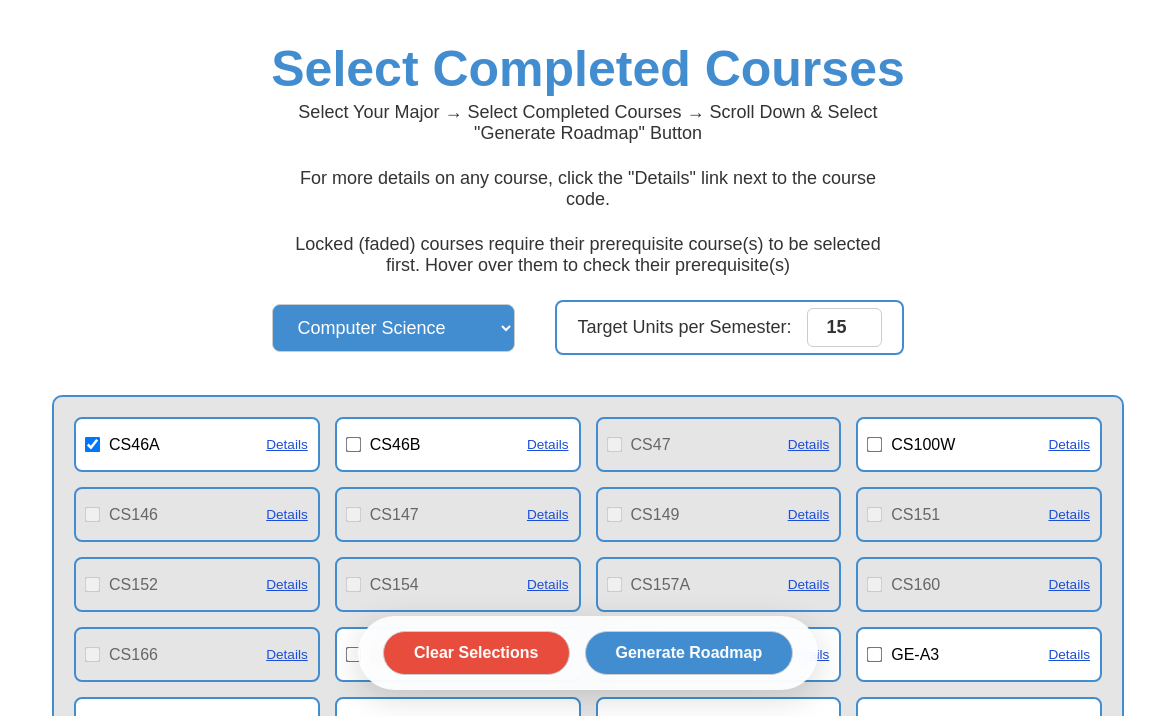
Test: Major page › clears selections only after confirmation and resets planner state when the major is cleared
Click the button "Clear Selections": x=476, y=653 [383, 631, 569, 675]
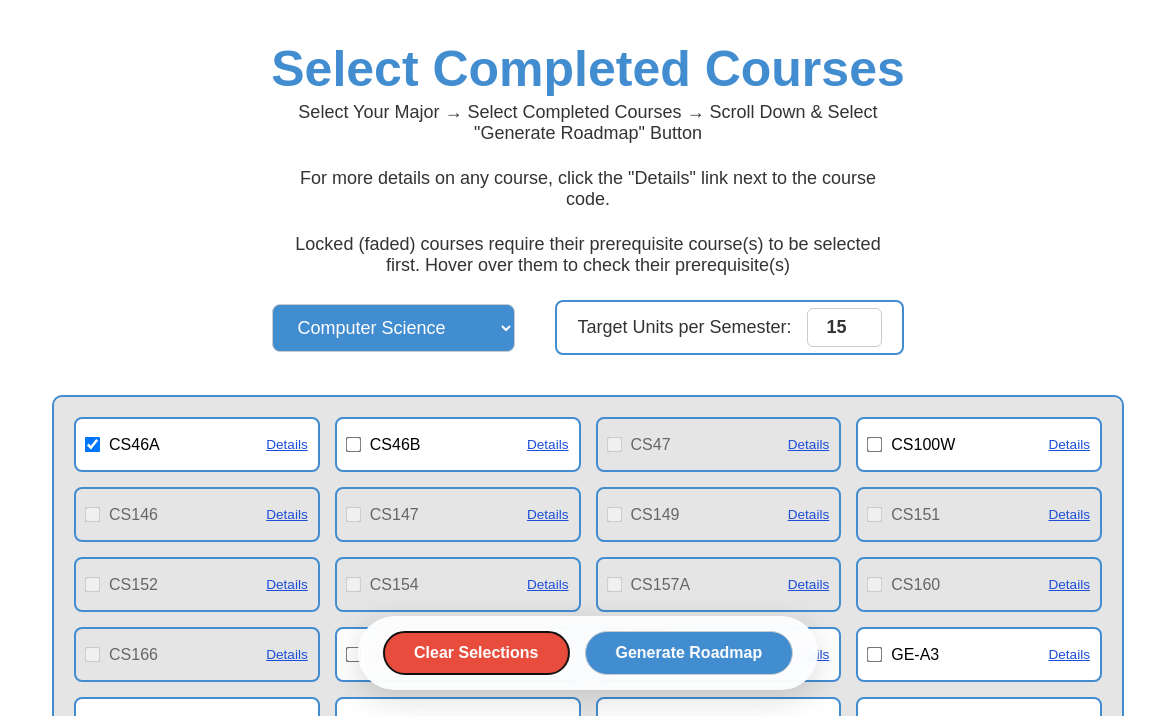
Click the button "Clear Selections": x=476, y=653 [383, 631, 569, 675]
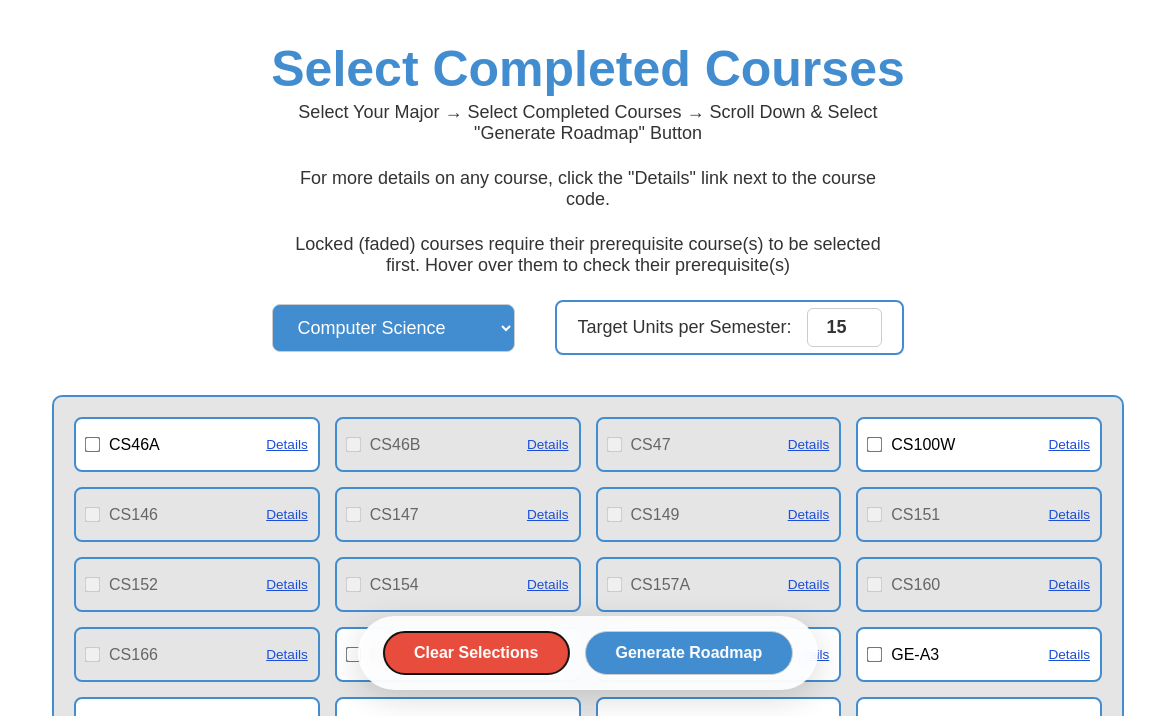
Select "Select Major" in the dropdown: x=394, y=328 [272, 304, 516, 352]
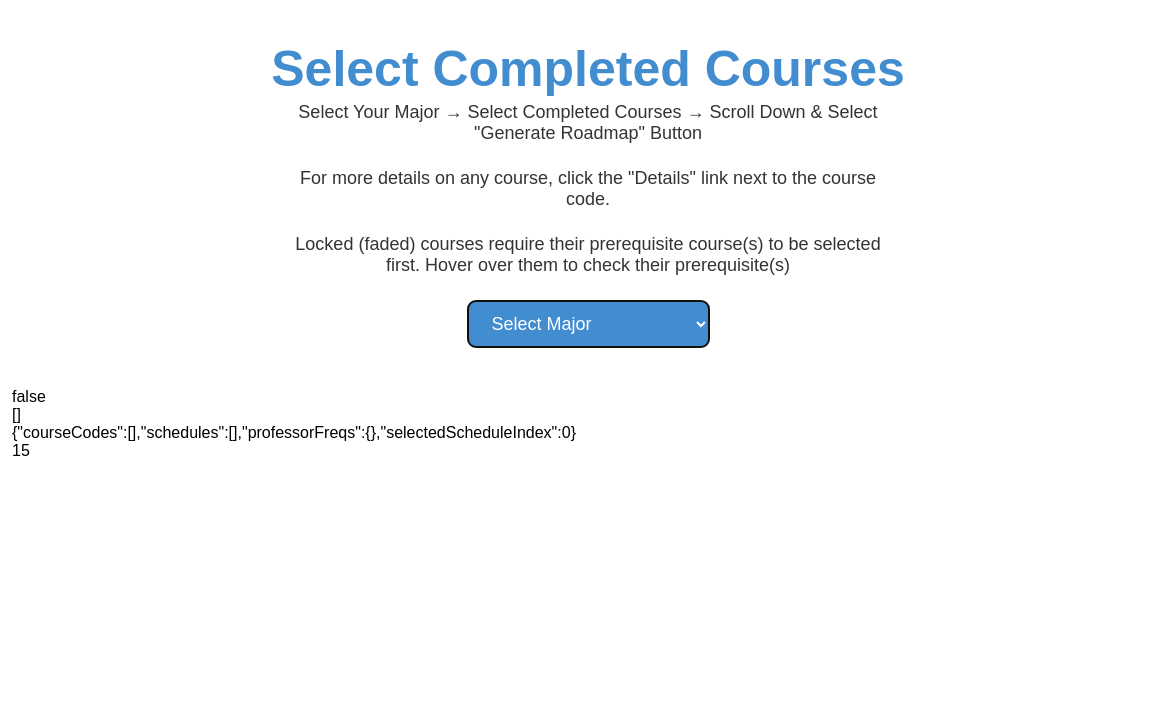
Expected: the text with test id "submitted" reads "false", [12, 388, 46, 405]
Expected: the text with test id "roadmap" reads "[]", [12, 406, 21, 423]
